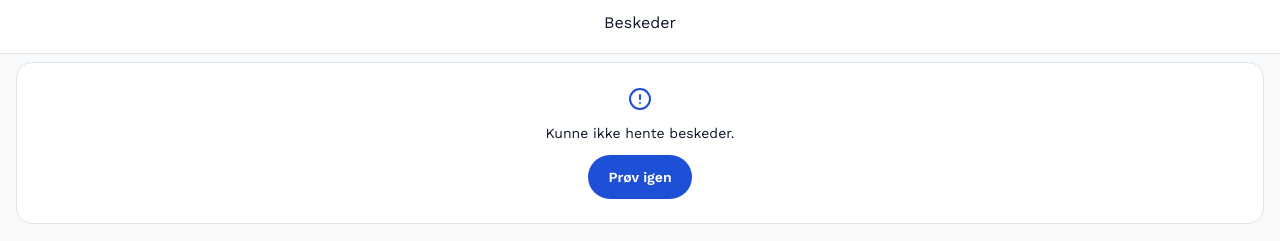
Test case: MobileMessages › shows error state with retry
Click the button "Prøv igen": (640, 177) 588,155 -> 692,199
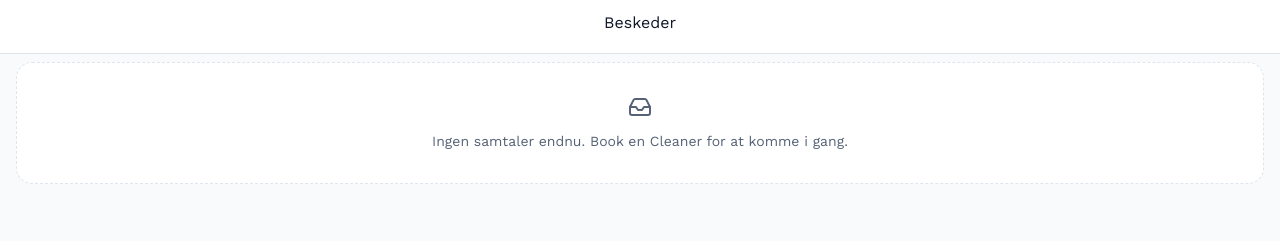
Result: the element with test id "mobile-messages-empty" is shown at 16,62 -> 1264,184
